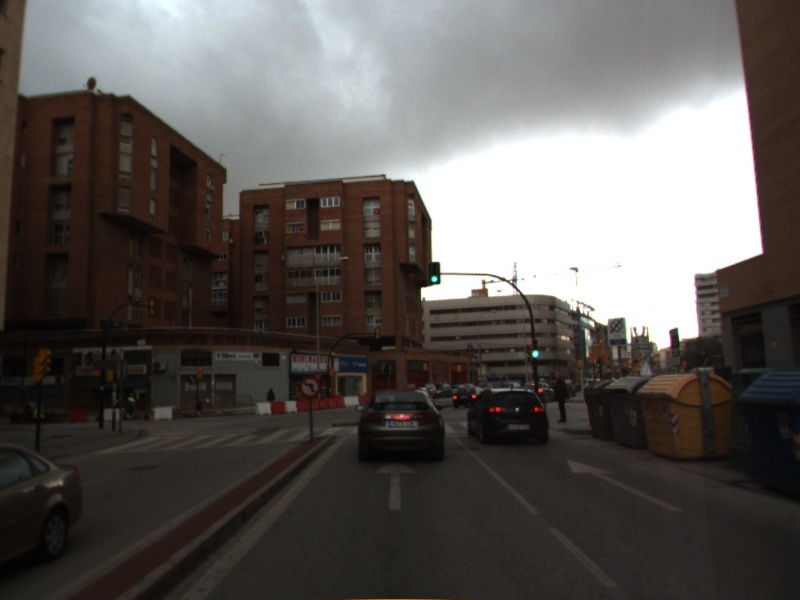STRAIGHT: (565, 457, 685, 514), (372, 460, 418, 512)
